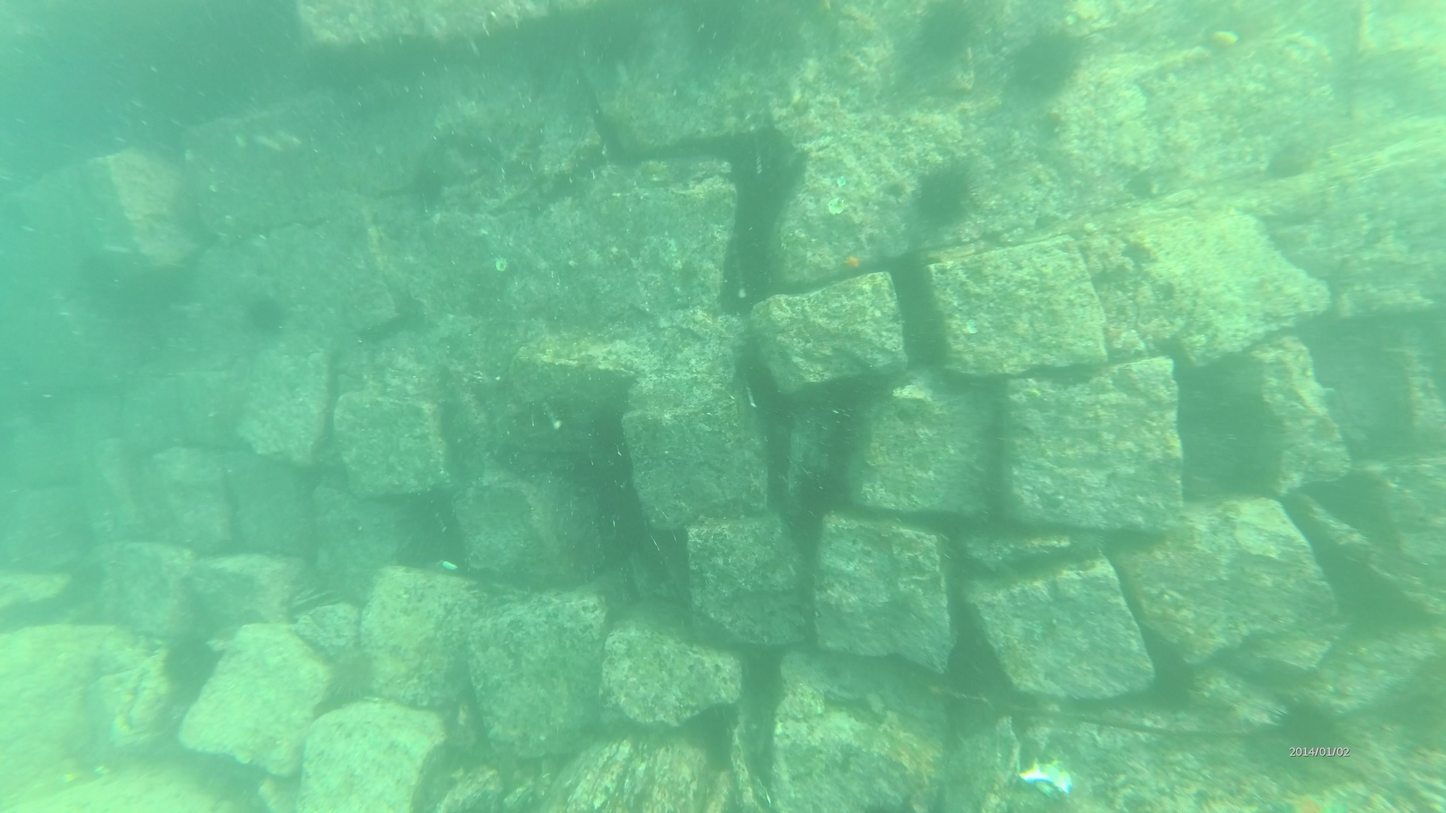holothurian: (842, 252, 865, 275)
starfish: (1009, 26, 1087, 97), (913, 161, 976, 227), (920, 3, 976, 59), (161, 639, 220, 690), (405, 166, 447, 204), (245, 295, 282, 335)
